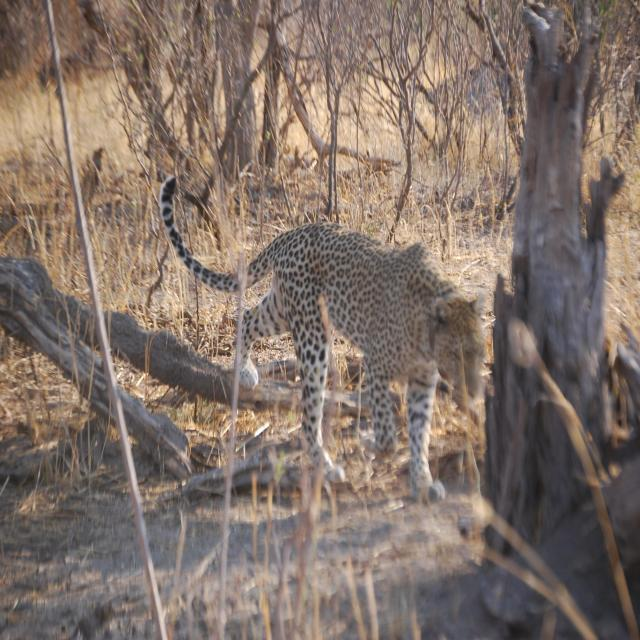Leopard: (167, 166, 486, 511)
